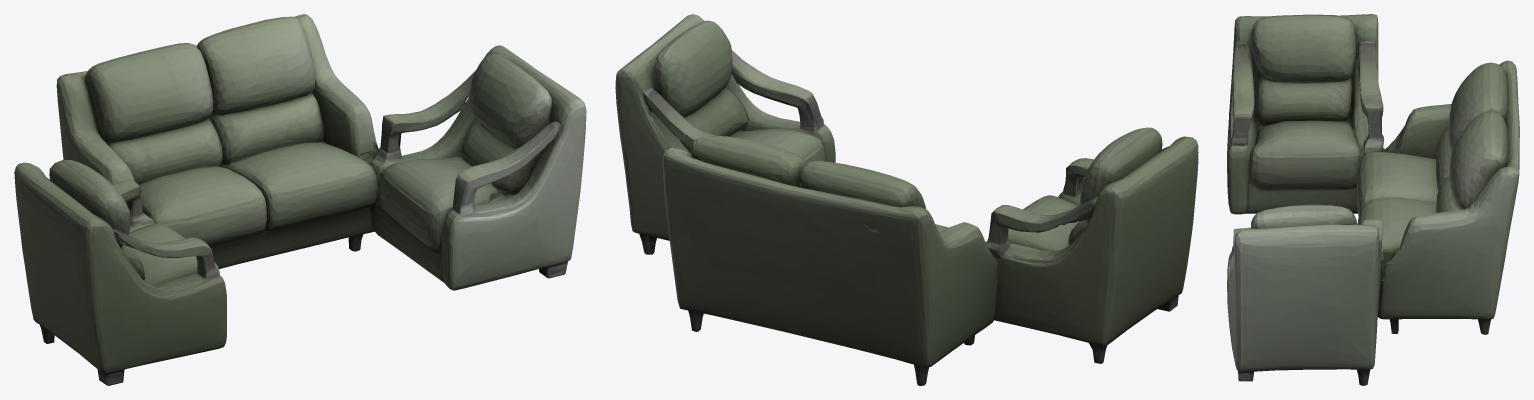
The picture shows the model from 3 angles, left to right: view 1: azimuth 30°, elevation 25°; view 2: azimuth 150°, elevation 25°; view 3: azimuth 270°, elevation 25°; orthographic projection. The views are drawn at different scales.
Visible parts, largest first — view 1: world; view 2: world; view 3: world.
Part boxes in pixels (x1,y1,x2,y2): world: (14,14,586,385); world: (615,14,1198,385); world: (1227,14,1519,385).
Bounding box in the file's own units: 0.9957 × 0.3777 × 0.5501.
Materials: 1 (1 with a texture image).
